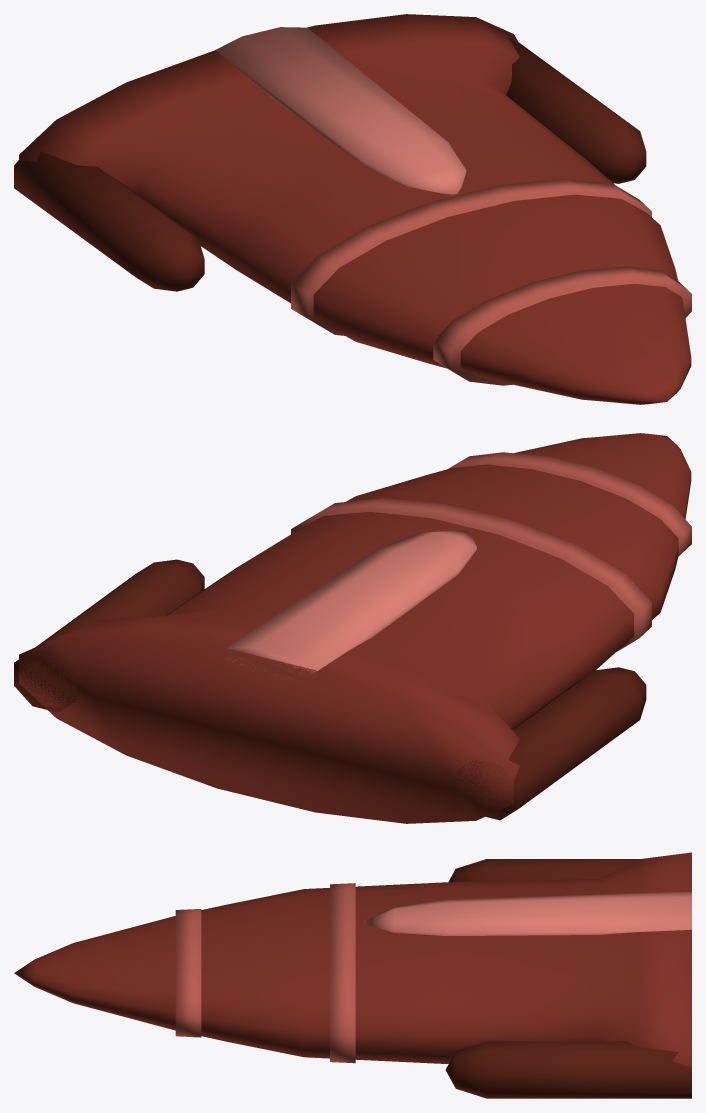
Rendered from newshi-278.glb.
The picture shows the model from 3 angles, top to bottom: view 1: azimuth 30°, elevation 25°; view 2: azimuth 150°, elevation 25°; view 3: azimuth 270°, elevation 25°; orthographic projection. The views are drawn at different scales.
Visible parts, largest first — view 1: newshi-278; view 2: newshi-278; view 3: newshi-278.
Boxes of the visible parts, x1,y1,x2,y2 form: newshi-278: [14, 14, 691, 404]; newshi-278: [14, 433, 691, 823]; newshi-278: [14, 852, 691, 1098].
Size of the model in its own units: 1.6 by 0.4527 by 2.2.
